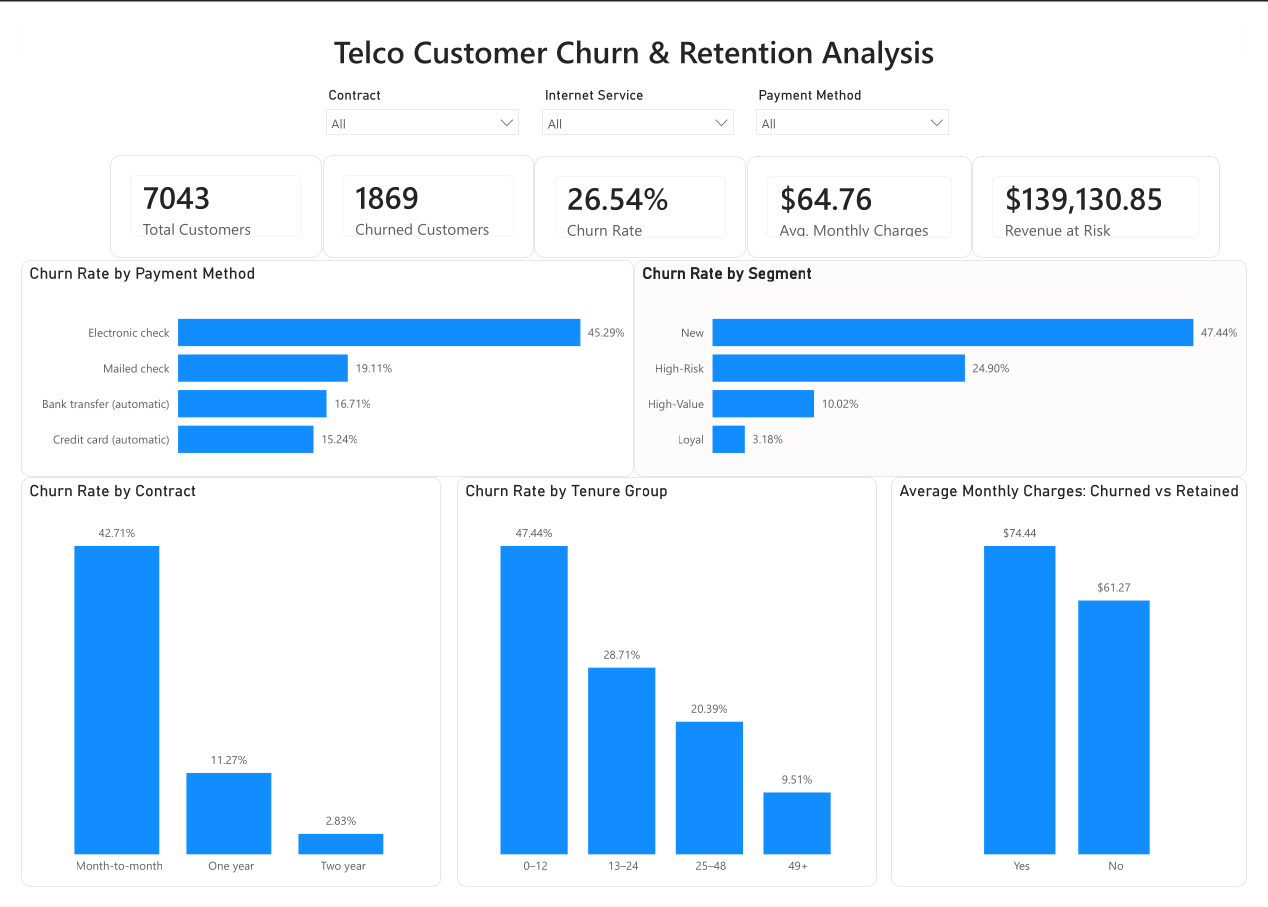

The dashboard page shown, as its layout file describes it:
{"tool":"powerbi","page":{"name":"Page 1","canvas":[1280,900],"ordinal":0},"visuals":[{"type":"cardVisual","fields":{"Data":["CountNonNull(Task4_Customer_Churn_Cleaned.customerID)"]},"box":[81.7,120,221.7,116.7],"z":0},{"type":"cardVisual","fields":{"Data":["CountNonNull(Task4_Customer_Churn_Cleaned.customerID)"]},"box":[303.3,120,221.7,116.7],"z":1000},{"type":"cardVisual","fields":{"Data":["Task4_Customer_Churn_Cleaned.Churn Rate"]},"box":[525,120,220,116.7],"z":2000},{"type":"cardVisual","fields":{"Data":["Avg(Task4_Customer_Churn_Cleaned.MonthlyCharges)"]},"box":[746.7,120,235,116.7],"z":3000},{"type":"cardVisual","fields":{"Data":["Task4_Customer_Churn_Cleaned.Revenue at Risk"]},"box":[981.7,120,258.3,116.7],"z":4000},{"type":"clusteredColumnChart","fields":{"Category":["Task4_Customer_Churn_Cleaned.Contract"],"Y":["Task4_Customer_Churn_Cleaned.Churn Rate"]},"box":[0,471.7,438.6,428.6],"z":5000},{"type":"clusteredColumnChart","title":"Churn Rate by Tenure Group","fields":{"Category":["Task4_Customer_Churn_Cleaned.TenureGroup"],"Y":["Task4_Customer_Churn_Cleaned.Churn Rate"]},"box":[455,471.7,438.6,428.6],"z":6000},{"type":"barChart","title":"Churn Rate by Payment Method","fields":{"Category":["Task4_Customer_Churn_Cleaned.PaymentMethod"],"Y":["Task4_Customer_Churn_Cleaned.Churn Rate"]},"box":[0,245,640,226.7],"z":7000},{"type":"barChart","fields":{"Category":["Task4_Customer_Churn_Cleaned.Segment"],"Y":["Task4_Customer_Churn_Cleaned.Churn Rate"]},"box":[640,245,640,226.7],"z":8000},{"type":"clusteredColumnChart","title":"Avg. Monthly Charges: Churned vs Retained","fields":{"Category":["Task4_Customer_Churn_Cleaned.Churn"],"Y":["Avg(Task4_Customer_Churn_Cleaned.MonthlyCharges)"]},"box":[908.3,471.7,371.4,428.6],"z":9000},{"type":"slicer","fields":{"Values":["Task4_Customer_Churn_Cleaned.Contract"]},"box":[308.3,60,222,72],"z":10000},{"type":"textbox","box":[305,0,670,55],"z":11000},{"type":"slicer","fields":{"Values":["Task4_Customer_Churn_Cleaned.InternetService"]},"box":[533.5,60,220,72],"z":12000},{"type":"slicer","fields":{"Values":["Task4_Customer_Churn_Cleaned.PaymentMethod"]},"box":[756.7,60,222,72],"z":13000}]}

Visuals, with their boxes in screenshot pixels (x1, y1, x2, y2), scaled from the page's 1280x900 canvas onto the 1268x907 screenshot:
cardVisual - CountNonNull(Task4_Customer_Churn_Cleaned.customerID): crop(81, 121, 301, 239)
cardVisual - CountNonNull(Task4_Customer_Churn_Cleaned.customerID): crop(300, 121, 520, 239)
cardVisual - Task4_Customer_Churn_Cleaned.Churn Rate: crop(520, 121, 738, 239)
cardVisual - Avg(Task4_Customer_Churn_Cleaned.MonthlyCharges): crop(740, 121, 972, 239)
cardVisual - Task4_Customer_Churn_Cleaned.Revenue at Risk: crop(972, 121, 1228, 239)
clusteredColumnChart - Task4_Customer_Churn_Cleaned.Contract x Task4_Customer_Churn_Cleaned.Churn Rate: crop(0, 475, 434, 906)
"Churn Rate by Tenure Group" clusteredColumnChart: crop(451, 475, 885, 906)
"Churn Rate by Payment Method" barChart: crop(0, 247, 634, 475)
barChart - Task4_Customer_Churn_Cleaned.Segment x Task4_Customer_Churn_Cleaned.Churn Rate: crop(634, 247, 1267, 475)
"Avg. Monthly Charges: Churned vs Retained" clusteredColumnChart: crop(900, 475, 1267, 906)
slicer - Task4_Customer_Churn_Cleaned.Contract: crop(305, 60, 525, 133)
textbox: crop(302, 0, 966, 55)
slicer - Task4_Customer_Churn_Cleaned.InternetService: crop(528, 60, 746, 133)
slicer - Task4_Customer_Churn_Cleaned.PaymentMethod: crop(750, 60, 970, 133)
